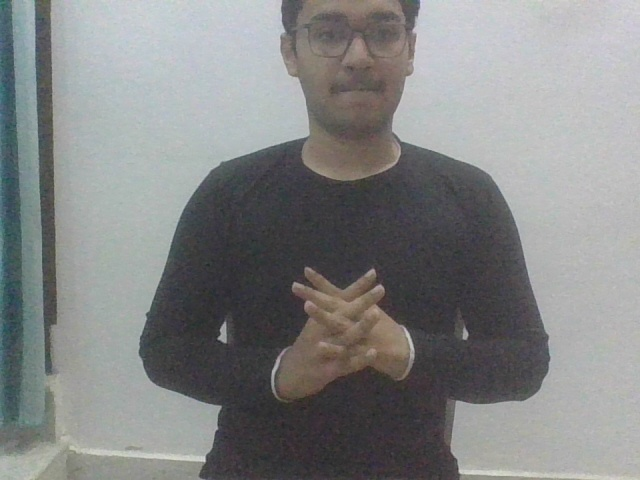W: (269, 267, 415, 404)
